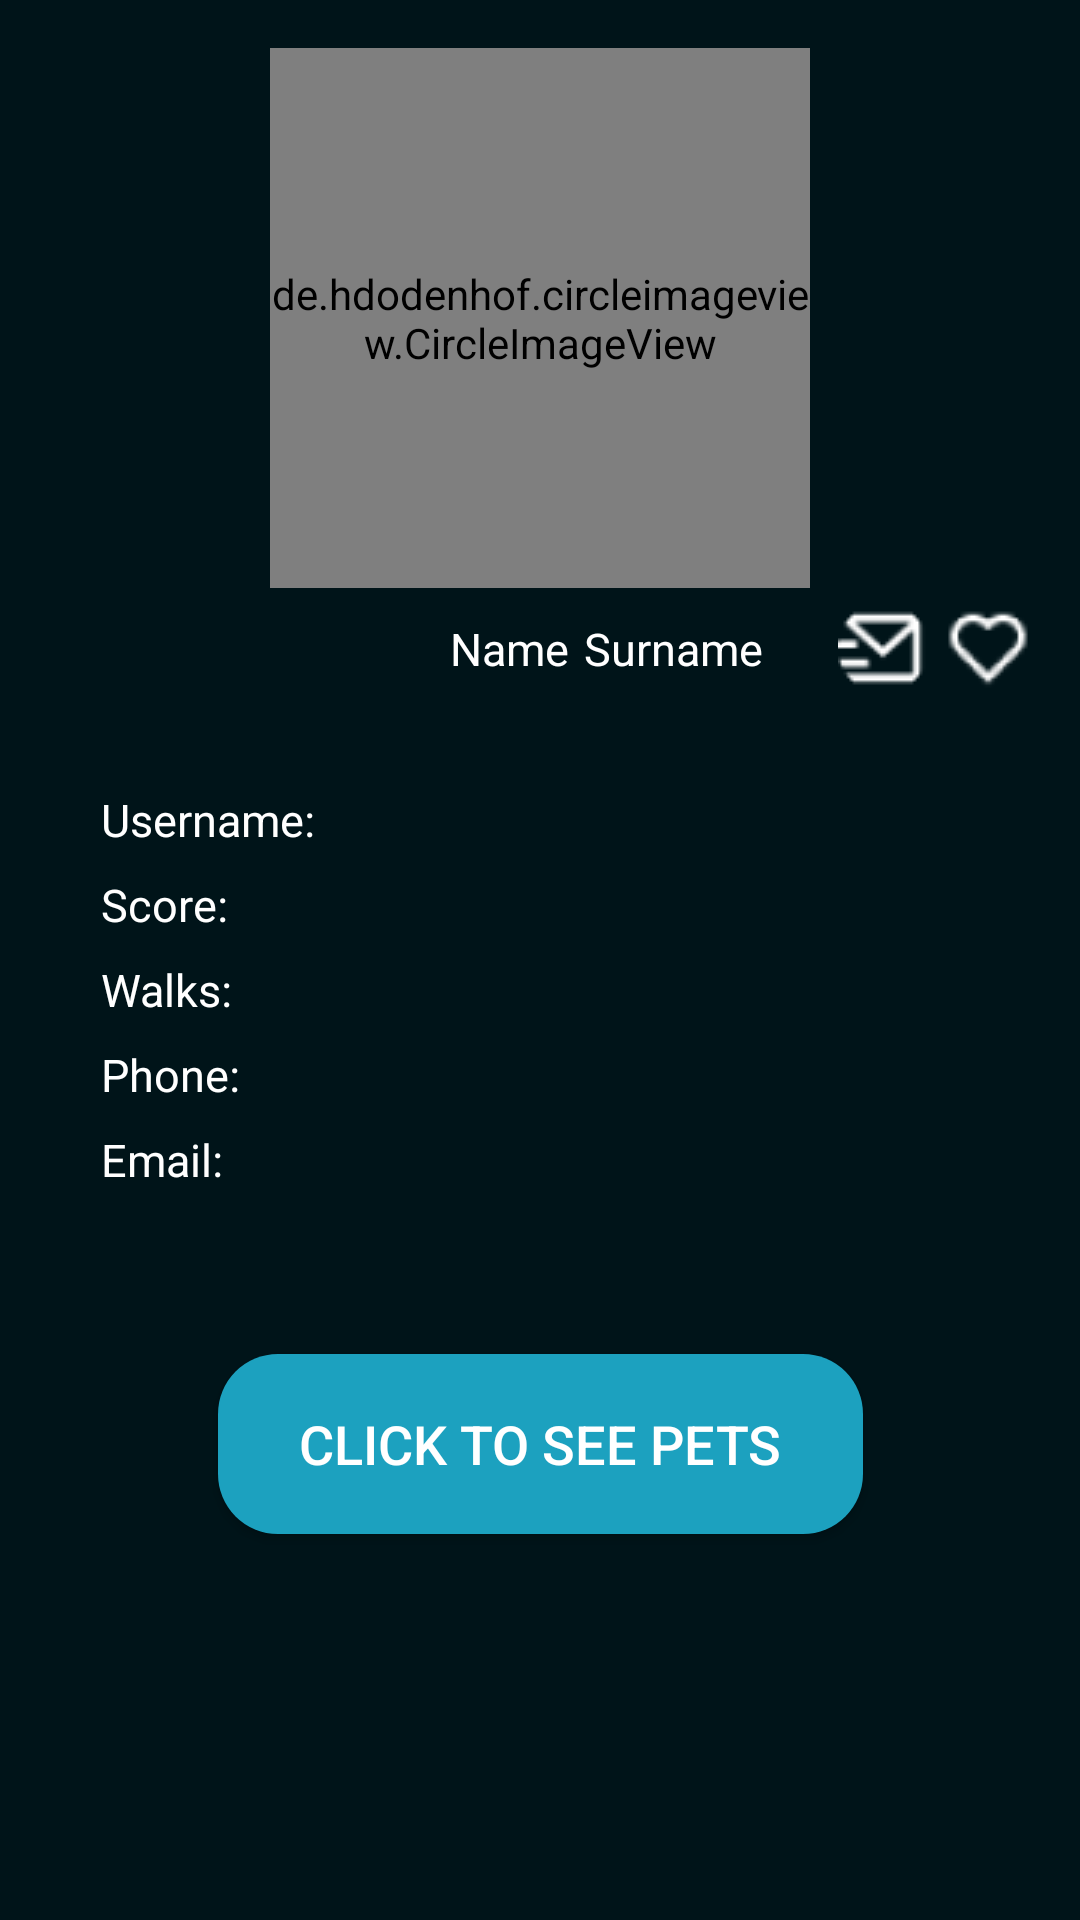

Screen size 1080×1920. Icon name, then its box in pixels as {"left": x1, "top": y1, "right": x2, "bottom": y2}:
heart: {"left": 948, "top": 612, "right": 1028, "bottom": 685}
send message: {"left": 838, "top": 612, "right": 923, "bottom": 684}
